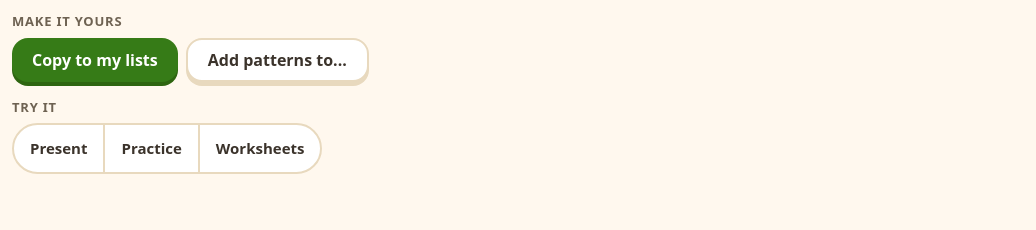
it: PrebuiltWeekActions › shows an inline error with retry when copying fails
The width and height of the screenshot is (1036, 230).
Click the button "Copy to my lists".
click(95, 60)  # box [12, 38, 178, 82]
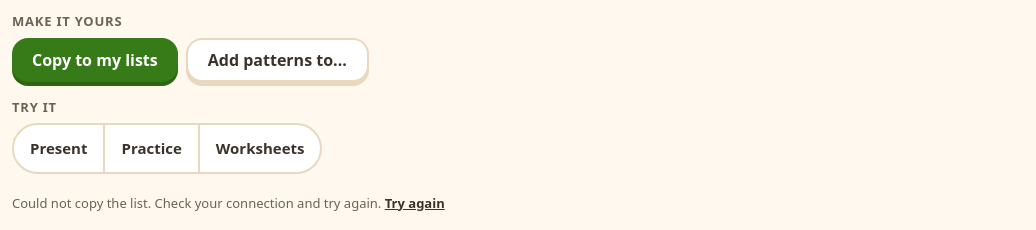
Check: the message shows "Could not copy the list", box [12, 194, 381, 212]
Click the button "Try again".
click(415, 203)  # box [385, 194, 445, 213]
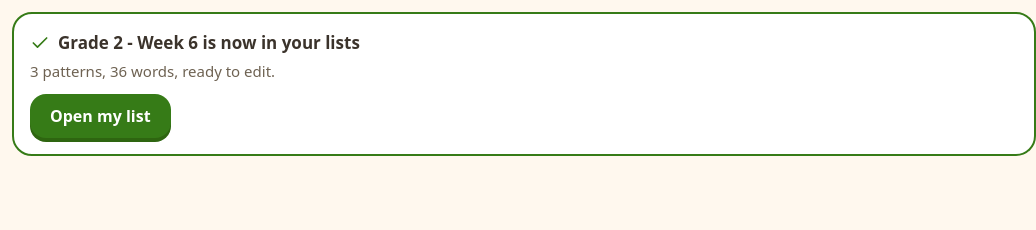
Check: the message shows "is now in your lists", box [198, 31, 360, 54]
